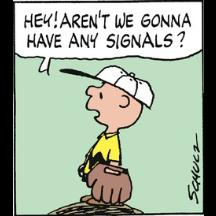charlie: (75, 64, 155, 206)
